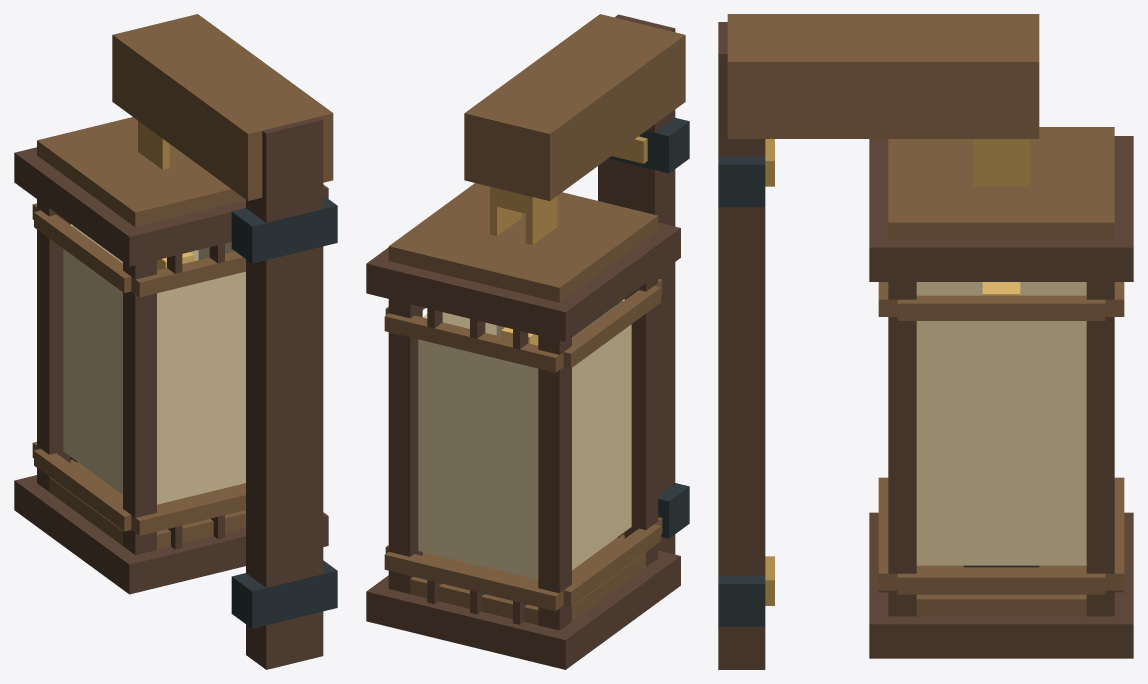
File: BUILT-054.glb
The picture shows the model from 3 angles, left to right: view 1: azimuth 30°, elevation 25°; view 2: azimuth 150°, elevation 25°; view 3: azimuth 270°, elevation 25°; orthographic projection. The views are drawn at different scales.
Visible parts, largest first — view 1: 共享入口墙侧木纸灯笼; view 2: 共享入口墙侧木纸灯笼; view 3: 共享入口墙侧木纸灯笼.
Boxes of the visible parts, box(x1,y1,x2,y2) form: 共享入口墙侧木纸灯笼: box(14, 14, 337, 669); 共享入口墙侧木纸灯笼: box(366, 14, 689, 669); 共享入口墙侧木纸灯笼: box(718, 14, 1133, 669).
Bounding box in the file's own units: 0.56 × 1.44 × 0.88.
Materials: 6 (6 with a texture image).
